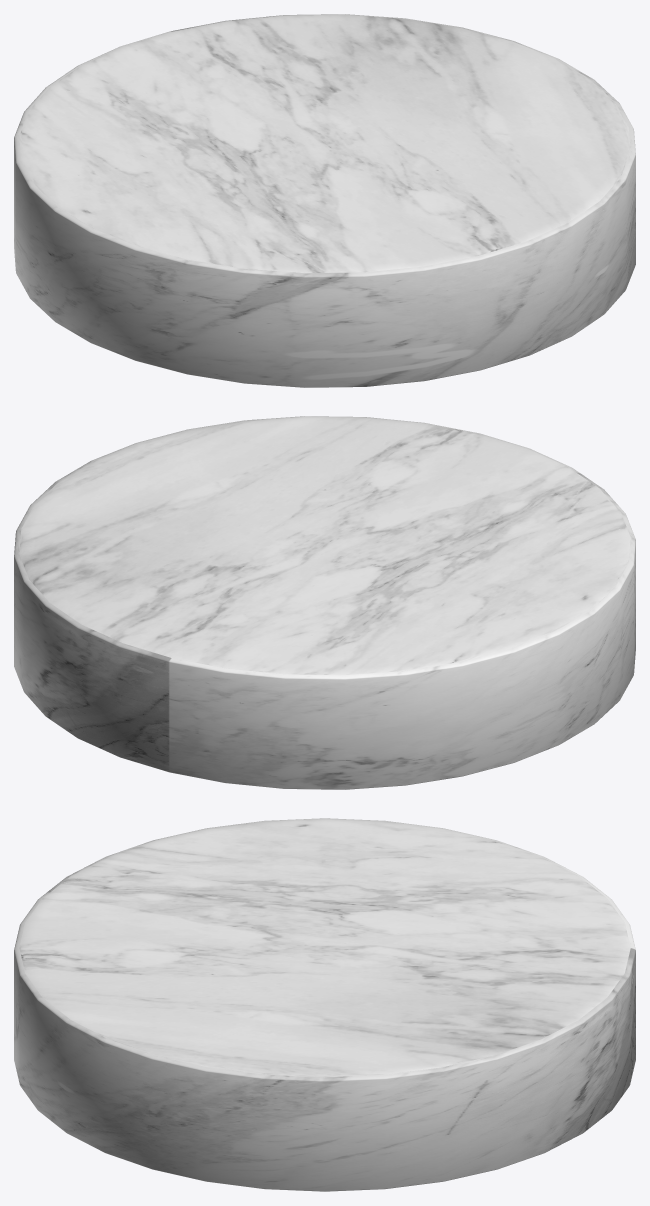
The model's file is stage.glb.
3 views of the same model, one above another, from view 1: azimuth 30°, elevation 25°; view 2: azimuth 150°, elevation 25°; view 3: azimuth 270°, elevation 25° (orthographic).
Parts seen in each view (by area): view 1: Cylinder; view 2: Cylinder; view 3: Cylinder.
Boxes of the visible parts, <box> form: Cylinder: <box>14,14,635,387</box>; Cylinder: <box>14,416,635,789</box>; Cylinder: <box>14,818,635,1191</box>.
Bounding box in the file's own units: 2 × 0.4079 × 2.
1 material, 1 textured.
